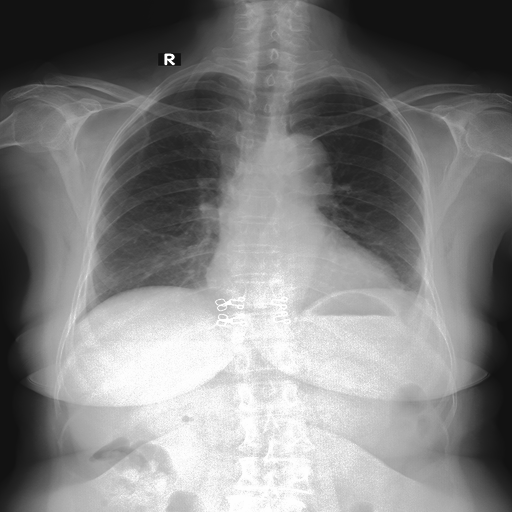Consolidation: (271, 133, 330, 187)
Nodule/Mass: (206, 251, 403, 298)
